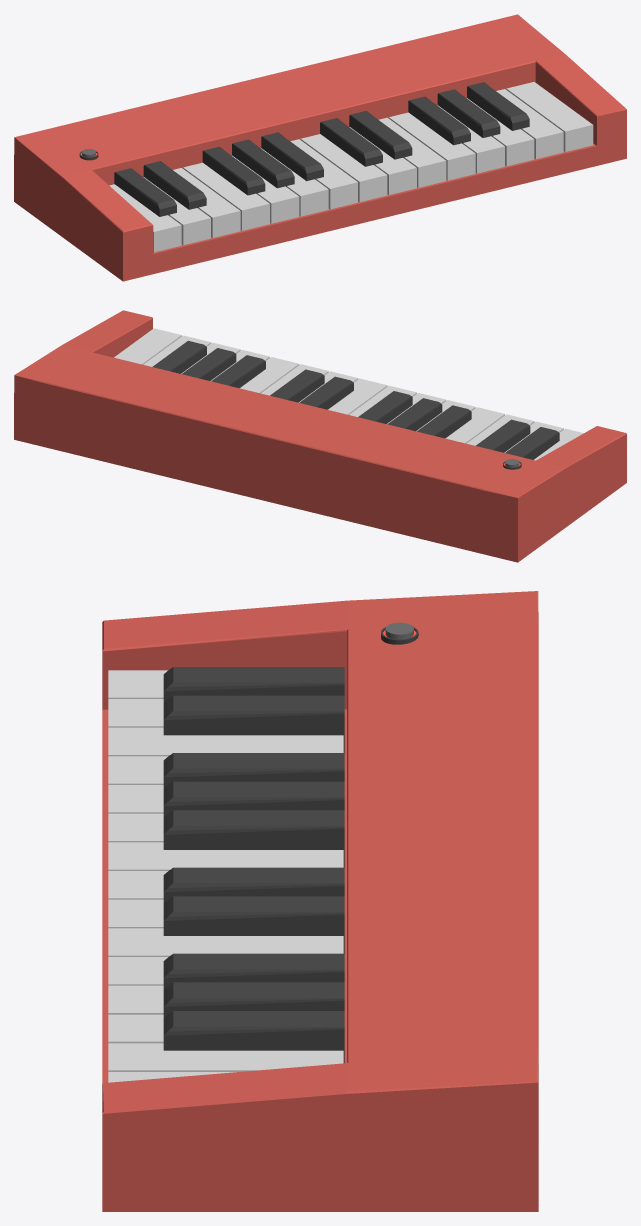
File: keyboard.glb
3 renders of one model, top to bottom at view 1: azimuth 30°, elevation 25°; view 2: azimuth 150°, elevation 25°; view 3: azimuth 270°, elevation 25°, orthographic. The views are drawn at different scales.
Visible parts, largest first — view 1: Body, Key_C5, Key_C4, Key_F3, Key_F4, Key_B4, Key_E4, Key_E3, Key_B3, Key_F#3, Key_G#4, Key_D#3 (+14 smaller); view 2: Body, Key_C5, Key_D#3, Key_G#3, Key_F#3, Key_D#4, Key_A#3, Key_G#4, Key_C#3, Key_F#4, Key_A#4, Key_C#4 (+8 smaller); view 3: Body, Key_D#3, Key_A#3, Key_D#4, Key_A#4, Key_G#3, Key_F#4, Key_C#4, Key_C#3, Key_F#3, Key_G#4, Key_B4 (+13 smaller).
Boxes of the visible parts, box(x1,y1,x2,y2) form: Body: box(14, 14, 626, 281); Key_C5: box(506, 82, 593, 151); Key_C4: box(300, 134, 387, 202); Key_F3: box(183, 162, 269, 230); Key_F4: box(389, 112, 475, 180); Key_B4: box(496, 89, 563, 159); Key_E4: box(378, 117, 446, 187); Key_E3: box(173, 168, 240, 237); Key_B3: box(290, 139, 357, 209); Key_F#3: box(202, 146, 265, 195); Key_G#4: box(437, 89, 500, 137); Key_D#3: box(143, 161, 206, 209); Body: box(14, 310, 626, 562); Key_C5: box(114, 328, 181, 364); Key_D#3: box(476, 419, 530, 452); Key_G#3: box(387, 398, 442, 431); Key_F#3: box(417, 405, 471, 438); Key_D#4: box(270, 369, 324, 402); Key_A#3: box(358, 391, 412, 423); Key_G#4: box(182, 348, 236, 380); Key_C#3: box(505, 427, 559, 459); Key_F#4: box(211, 355, 265, 388); Key_A#4: box(152, 340, 206, 373); Key_C#4: box(299, 376, 353, 409); Body: box(102, 591, 538, 1211); Key_D#3: box(163, 695, 344, 752); Key_A#3: box(163, 810, 344, 867); Key_D#4: box(163, 896, 344, 953); Key_A#4: box(163, 1011, 344, 1063); Key_G#3: box(163, 781, 344, 817); Key_F#4: box(163, 953, 344, 989); Key_C#4: box(163, 867, 344, 903); Key_C#3: box(163, 667, 344, 702); Key_F#3: box(163, 753, 344, 788); Key_G#4: box(163, 982, 344, 1017); Key_B4: box(108, 1043, 343, 1071).
Bounding box in the file's own units: 0.6173 × 0.0766 × 0.2314.
